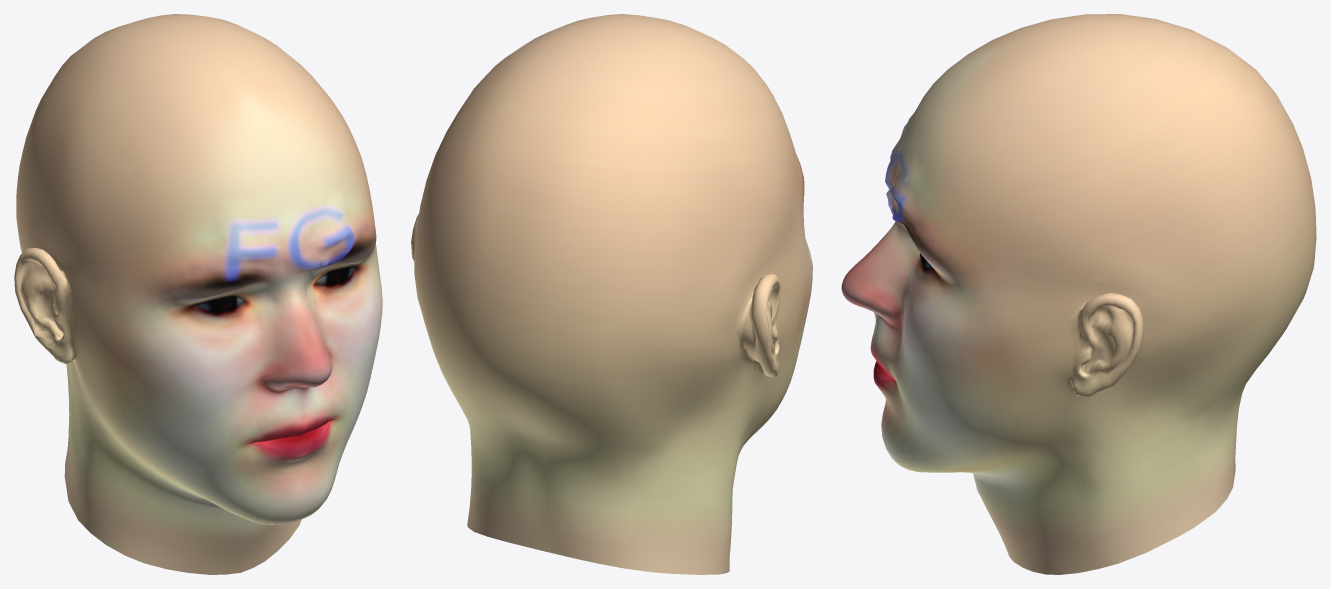
The model's file is random_anyrace_anysex_09.obj.
3 renders of one model, left to right at view 1: azimuth 30°, elevation 25°; view 2: azimuth 150°, elevation 25°; view 3: azimuth 270°, elevation 25°, orthographic. The views are drawn at different scales.
Parts seen in each view (by area): view 1: HeadHires; view 2: HeadHires; view 3: HeadHires.
Part boxes in pixels (<box>): HeadHires: <box>14,14,382,574</box>; HeadHires: <box>411,14,812,574</box>; HeadHires: <box>841,14,1316,574</box>.
Bounding box in the file's own units: 193 × 283 × 234.
Materials: 3 (3 with a texture image).
